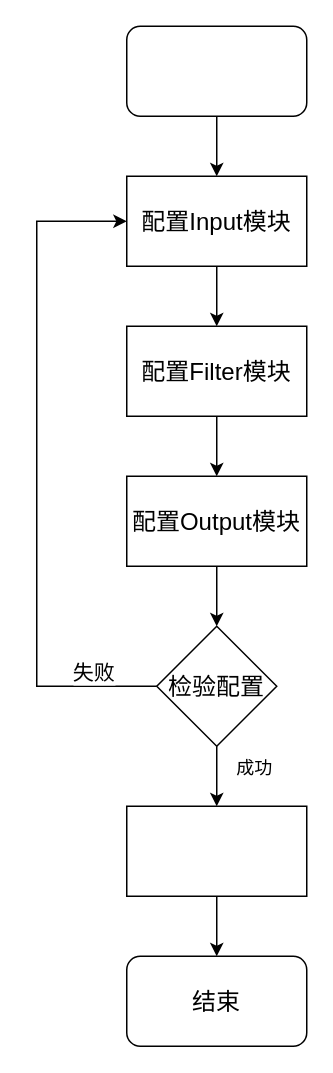
Image size: 333x1073. Some labels were removed from this diagram. Each missing label, with the box of its shape:
开始: (125, 25, 307, 116)
运行Logstash: (125, 805, 307, 896)
